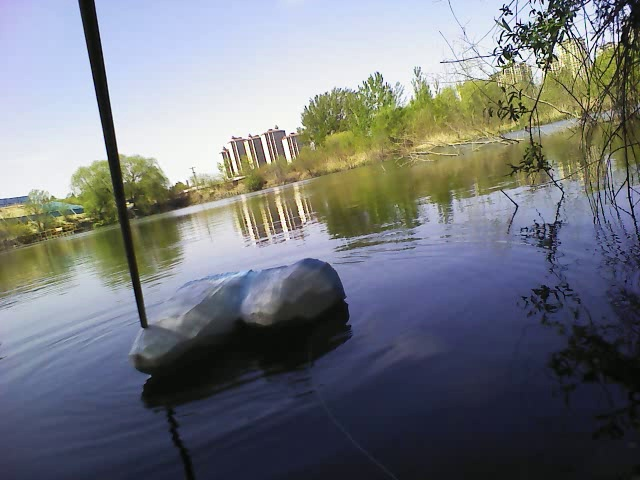iceberg: (124, 256, 350, 380)
